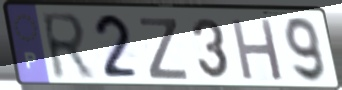2: (90, 12, 146, 84)
3: (190, 17, 231, 82)
9: (281, 16, 330, 85)
H: (228, 16, 286, 83)
R: (38, 11, 98, 84)
Z: (137, 16, 191, 82)
